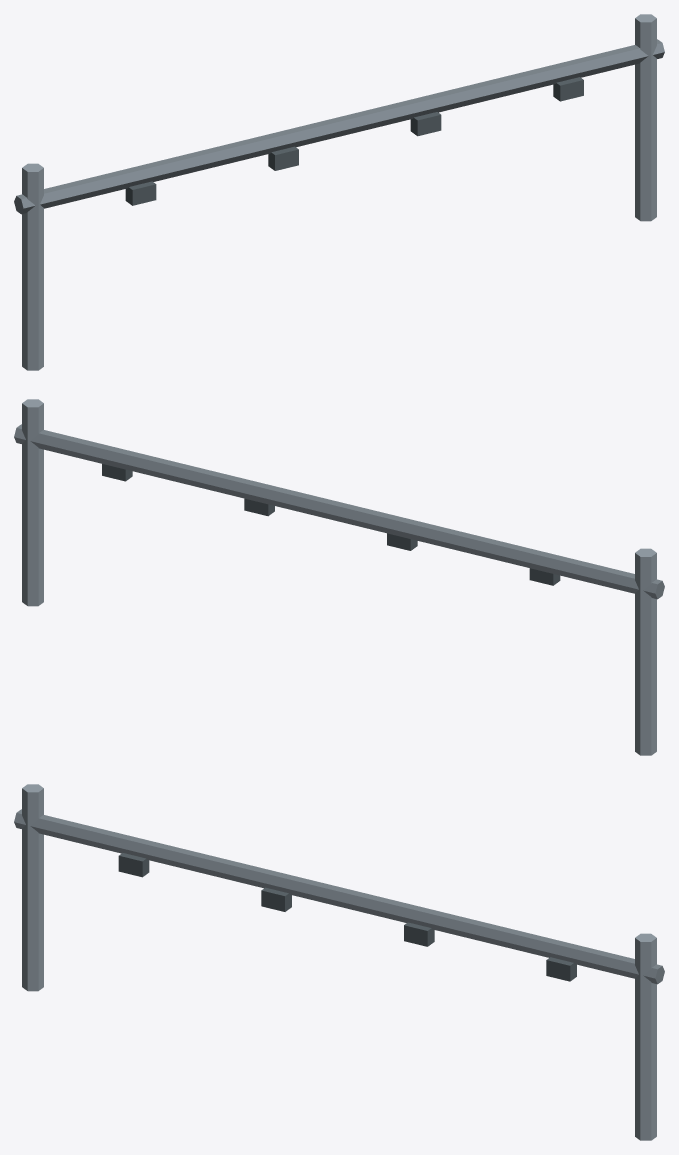
The picture shows the model from 3 angles, top to bottom: view 1: azimuth 30°, elevation 25°; view 2: azimuth 150°, elevation 25°; view 3: azimuth 330°, elevation 25°; orthographic projection.
Parts seen in each view (by area): view 1: worldgen; view 2: worldgen; view 3: worldgen.
Boxes of the visible parts, x1=… form: worldgen: x1=14, y1=14, x2=664, y2=370; worldgen: x1=14, y1=399, x2=664, y2=755; worldgen: x1=14, y1=784, x2=664, y2=1140.
Bounding box in the file's own units: 54 × 16 × 1.8.
